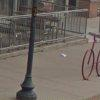Bicycle: (77, 29, 99, 81)
